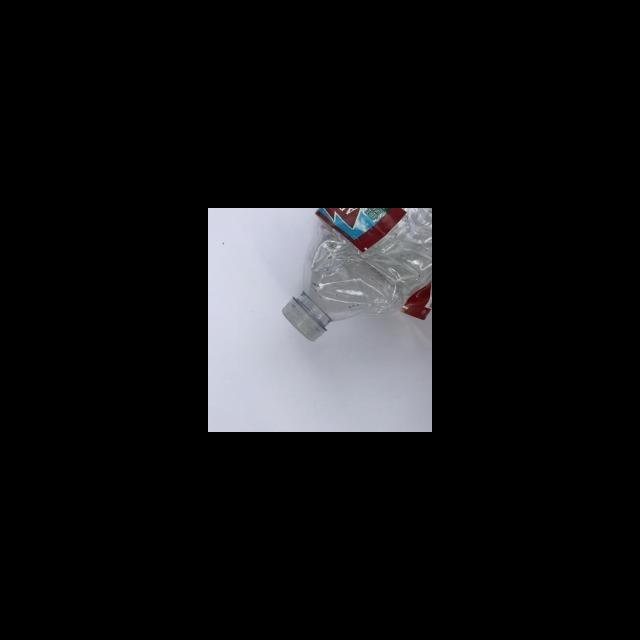plastic: (282, 208, 432, 349)
